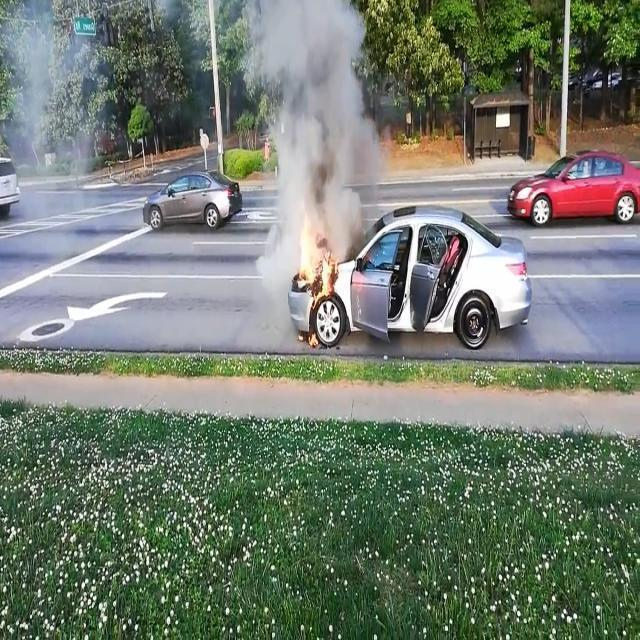fire: (290, 195, 345, 348)
